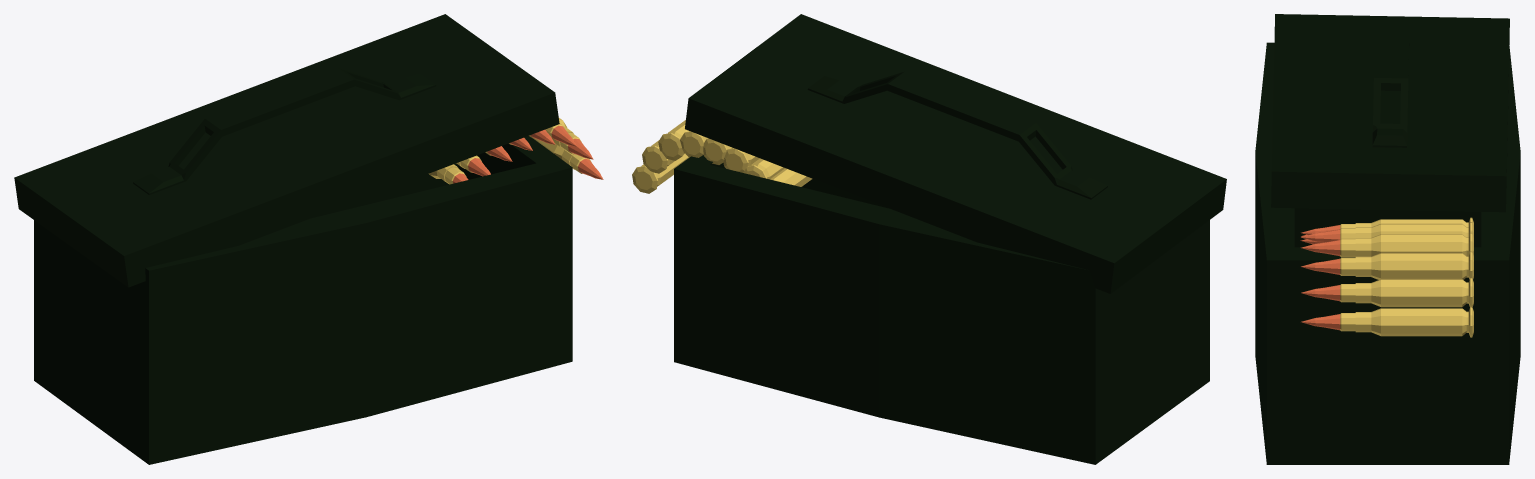
The model's file is AmmoBoxfbx.fbx.
3 views of the same model, side by side, from view 1: azimuth 30°, elevation 25°; view 2: azimuth 150°, elevation 25°; view 3: azimuth 270°, elevation 25° (orthographic). The views are drawn at different scales.
Visible parts, largest first — view 1: Cube.001; view 2: Cube.001; view 3: Cube.001.
Part boxes in pixels (x1=…): Cube.001: x1=14, y1=14, x2=603, y2=464; Cube.001: x1=632, y1=14, x2=1226, y2=464; Cube.001: x1=1255, y1=14, x2=1520, y2=464.
Bounding box in the file's own units: 508 × 275 × 220.
